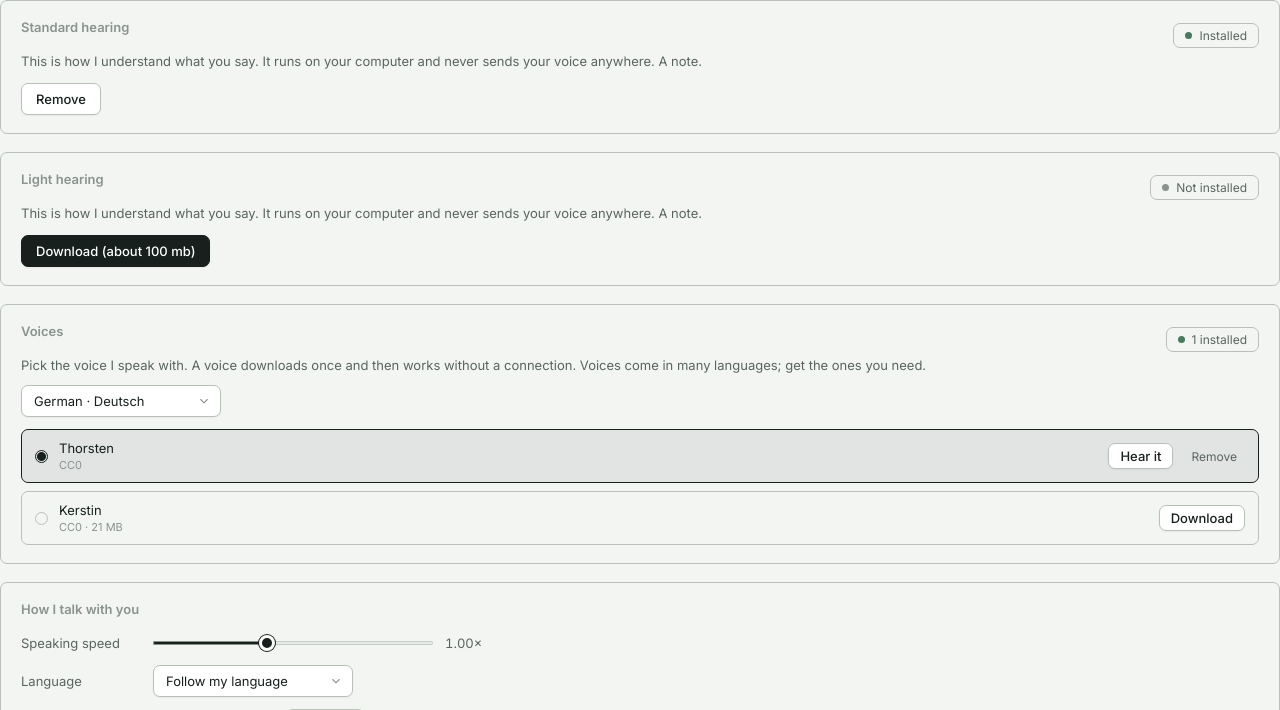
Test: the Voice tab › switches the list by language and shows where English voices come from
What coordinates should you click on to do the following:
click the dropdown named "Which voices to show"
I would click on:
 (121, 401)
Its box is [21, 385, 221, 417].
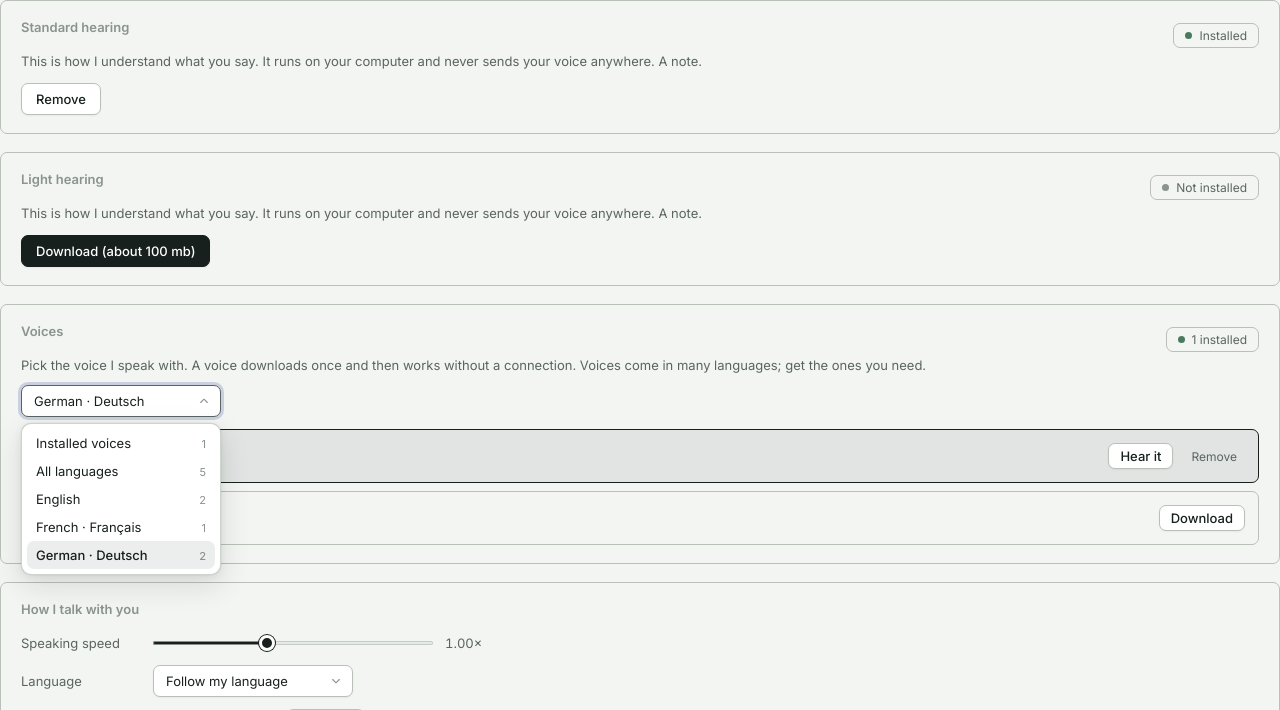
What coordinates should you click on to do the following:
click the option "English 2"
I would click on:
 (58, 499)
Its box is [36, 491, 206, 507].
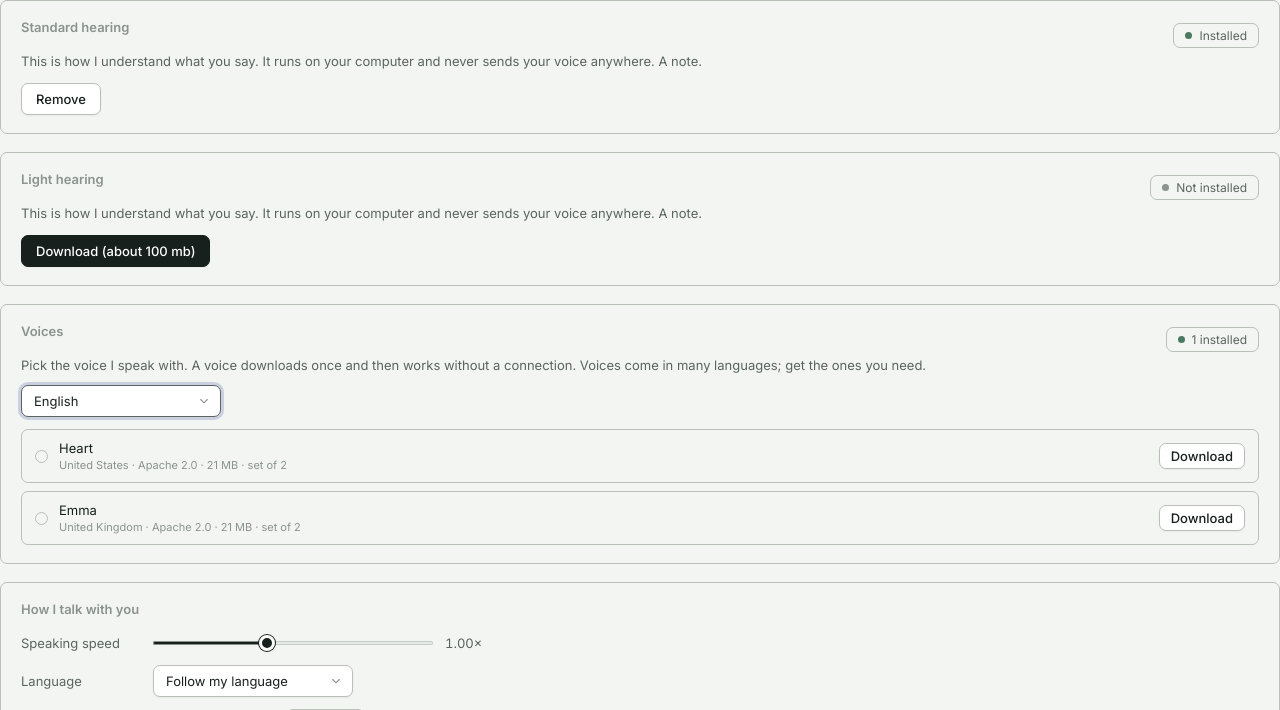
expect the text "United States · Apache 2.0 · 21 MB · set of 2" is shown: met, box [59, 458, 287, 472]
expect the text "United Kingdom · Apache 2.0 · 21 MB · set of 2" is shown: met, box [59, 520, 301, 534]
